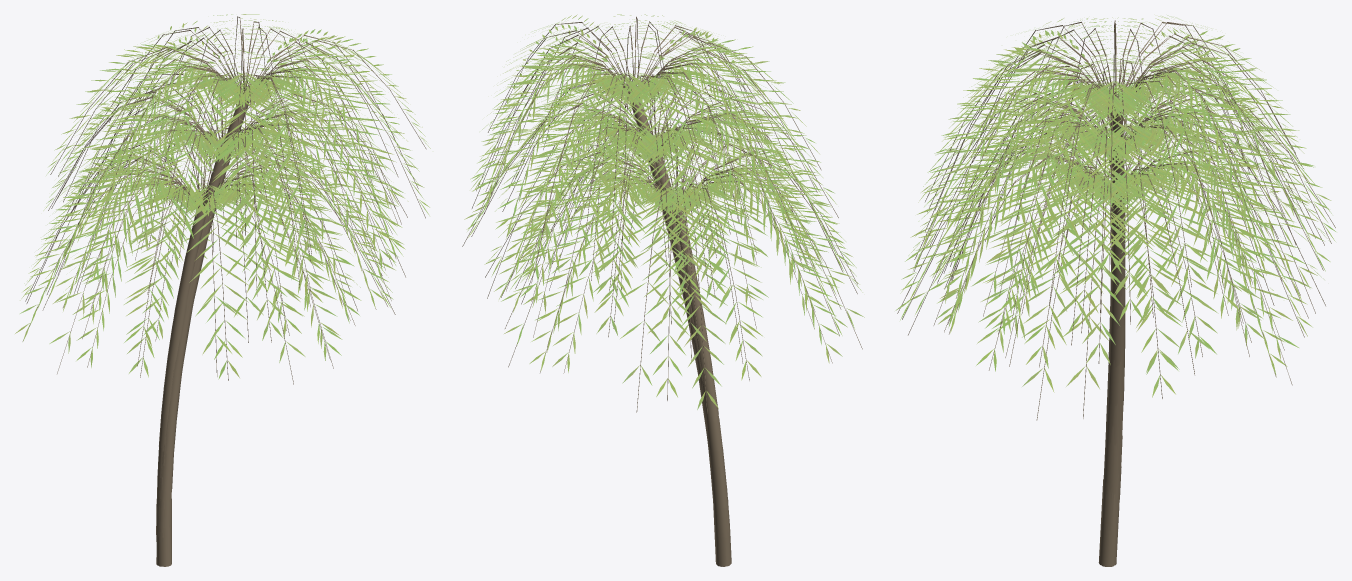
Rendered from palms.glb.
3 renders of one model, left to right at view 1: azimuth 30°, elevation 25°; view 2: azimuth 150°, elevation 25°; view 3: azimuth 270°, elevation 25°, orthographic. The views are drawn at different scales.
Parts seen in each view (by area): view 1: palm-2-near-leaves, palm-1-near-leaves, palm-0-near-leaves, palm-2-far-leaves, palm-2-near-wood, palm-1-far-leaves, palm-0-far-leaves, palm-0-near-wood, palm-2-far-wood, palm-1-near-wood, palm-0-far-wood, palm-1-far-wood; view 2: palm-2-near-leaves, palm-1-near-leaves, palm-0-near-leaves, palm-2-far-leaves, palm-1-far-leaves, palm-0-near-wood, palm-0-far-leaves, palm-2-near-wood, palm-2-far-wood, palm-1-near-wood, palm-0-far-wood, palm-1-far-wood; view 3: palm-2-near-leaves, palm-1-near-leaves, palm-0-near-leaves, palm-2-far-leaves, palm-1-far-leaves, palm-2-near-wood, palm-2-far-wood, palm-0-far-leaves, palm-1-near-wood, palm-1-far-wood, palm-0-near-wood, palm-0-far-wood.
Part boxes in pixels (bbox=[...]): palm-2-near-leaves: bbox=[46, 24, 430, 292]; palm-1-near-leaves: bbox=[43, 75, 399, 340]; palm-0-near-leaves: bbox=[15, 123, 393, 379]; palm-2-far-leaves: bbox=[60, 14, 419, 265]; palm-2-near-wood: bbox=[50, 26, 426, 566]; palm-1-far-leaves: bbox=[51, 68, 408, 316]; palm-0-far-leaves: bbox=[38, 125, 392, 362]; palm-0-near-wood: bbox=[22, 128, 387, 566]; palm-2-far-wood: bbox=[58, 16, 418, 566]; palm-1-near-wood: bbox=[48, 76, 395, 566]; palm-0-far-wood: bbox=[42, 128, 395, 566]; palm-1-far-wood: bbox=[52, 74, 407, 566]; palm-2-near-leaves: bbox=[471, 14, 822, 293]; palm-1-near-leaves: bbox=[466, 72, 848, 335]; palm-0-near-leaves: bbox=[494, 123, 862, 409]; palm-2-far-leaves: bbox=[470, 14, 819, 243]; palm-1-far-leaves: bbox=[464, 72, 843, 315]; palm-0-near-wood: bbox=[501, 127, 857, 566]; palm-0-far-leaves: bbox=[487, 124, 864, 385]; palm-2-near-wood: bbox=[476, 21, 817, 566]; palm-2-far-wood: bbox=[472, 16, 821, 566]; palm-1-near-wood: bbox=[471, 77, 841, 566]; palm-0-far-wood: bbox=[485, 126, 862, 566]; palm-1-far-wood: bbox=[462, 74, 843, 566]; palm-2-near-leaves: bbox=[905, 15, 1335, 320]; palm-1-near-leaves: bbox=[908, 57, 1330, 334]; palm-0-near-leaves: bbox=[895, 105, 1312, 397]; palm-2-far-leaves: bbox=[924, 16, 1308, 294]; palm-1-far-leaves: bbox=[927, 55, 1331, 339]; palm-2-near-wood: bbox=[914, 20, 1331, 566]; palm-2-far-wood: bbox=[925, 22, 1303, 566]; palm-0-far-leaves: bbox=[900, 105, 1324, 392]; palm-1-near-wood: bbox=[914, 62, 1324, 566]; palm-1-far-wood: bbox=[933, 58, 1335, 566]; palm-0-near-wood: bbox=[902, 113, 1304, 566]; palm-0-far-wood: bbox=[897, 110, 1325, 566].
Size of the model in its own units: 16.13 by 20.2 by 14.48.
